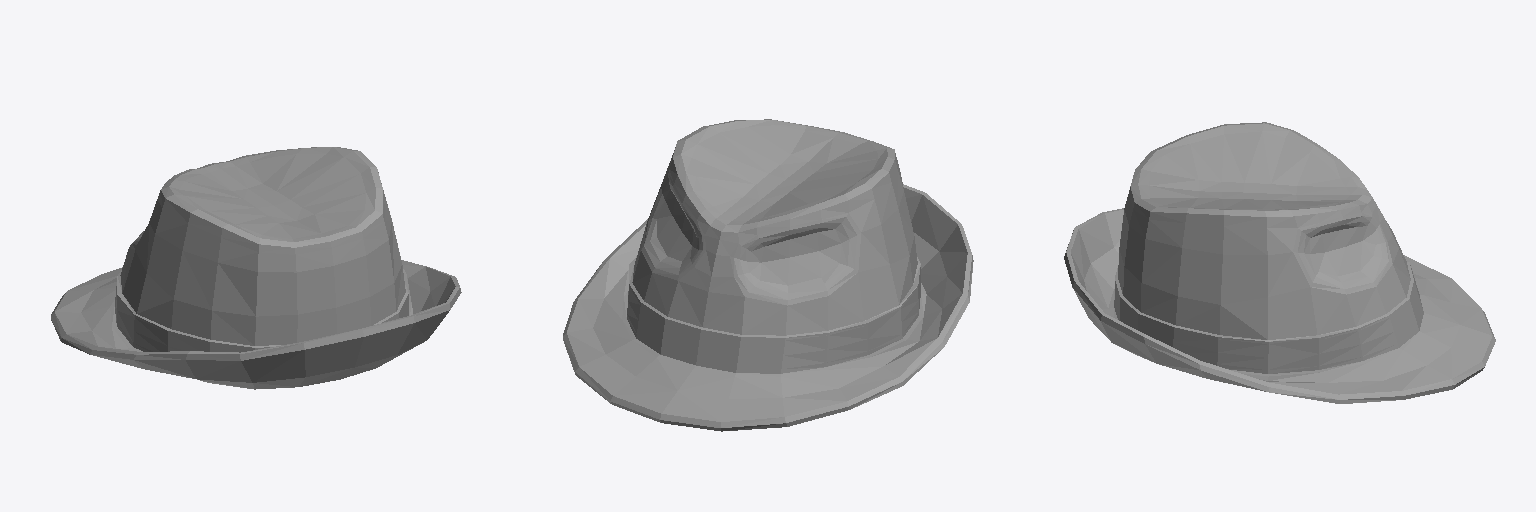
Rendered from fedora.obj.
3 renders of one model, left to right at view 1: azimuth 30°, elevation 25°; view 2: azimuth 150°, elevation 25°; view 3: azimuth 270°, elevation 25°, orthographic.
Visible parts, largest first — view 1: fedora; view 2: fedora; view 3: fedora.
Boxes of the visible parts, <box> form: fedora: <box>51,147,461,389</box>; fedora: <box>563,119,973,431</box>; fedora: <box>1064,122,1495,403</box>.
Size of the model in its own units: 1.84 by 0.9111 by 2.01.